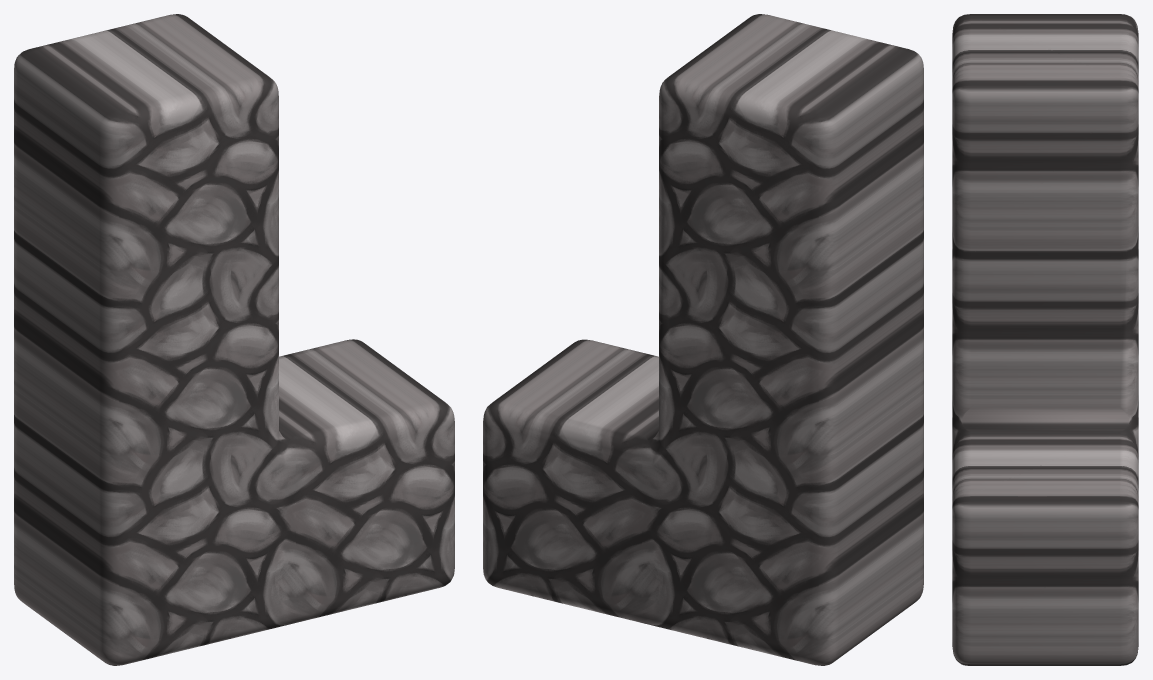
Rendered from L_block.FBX.
The picture shows the model from 3 angles, left to right: view 1: azimuth 30°, elevation 25°; view 2: azimuth 150°, elevation 25°; view 3: azimuth 270°, elevation 25°; orthographic projection. The views are drawn at different scales.
Parts seen in each view (by area): view 1: Box001; view 2: Box001; view 3: Box001.
Boxes of the visible parts, box(x1,y1,x2,y2) form: Box001: box(14, 14, 454, 665); Box001: box(483, 14, 923, 665); Box001: box(952, 14, 1138, 665).
Bounding box in the file's own units: 2 × 3 × 1.
